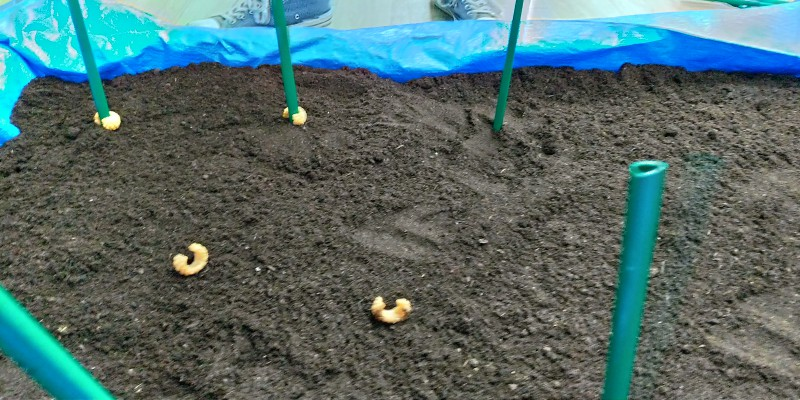eggs: (366, 288, 417, 326), (168, 238, 212, 278), (90, 107, 124, 133), (280, 104, 310, 127)
